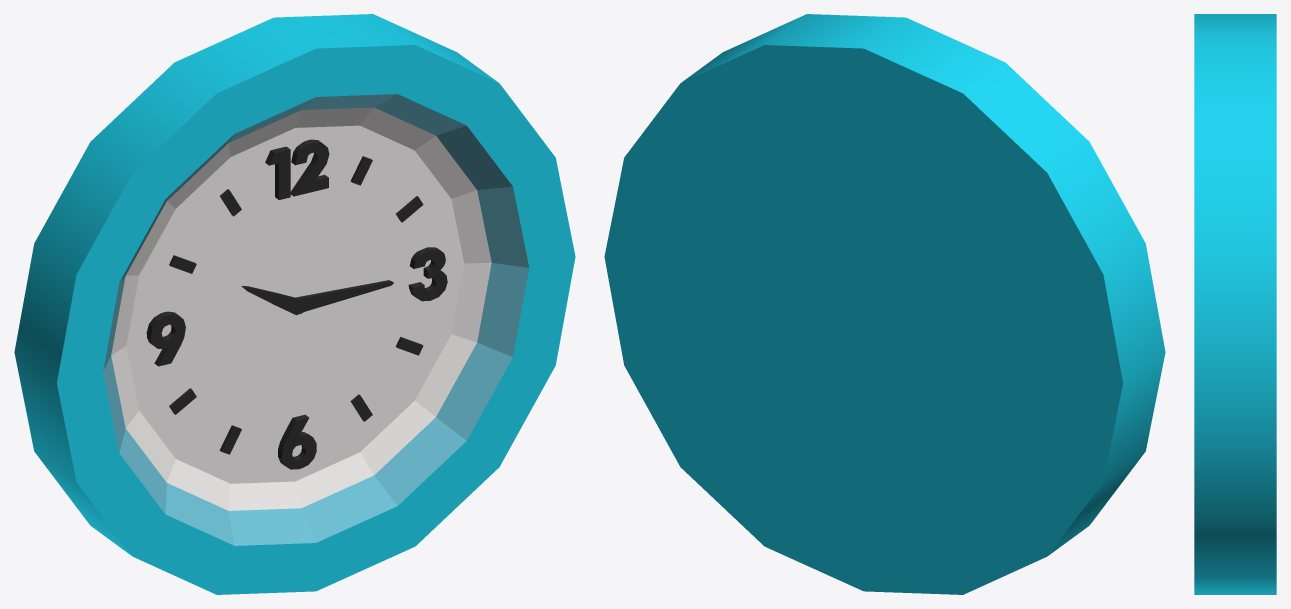
Rendered from clock-1.glb.
3 views of the same model, side by side, from view 1: azimuth 30°, elevation 25°; view 2: azimuth 150°, elevation 25°; view 3: azimuth 270°, elevation 25° (orthographic). The views are drawn at different scales.
Parts seen in each view (by area): view 1: pCube169; view 2: pCube169; view 3: pCube169.
Part boxes in pixels (x1,y1,x2,y2): pCube169: [14, 14, 575, 594]; pCube169: [604, 14, 1165, 594]; pCube169: [1194, 14, 1276, 594].
Bounding box in the file's own units: 0.4758 × 0.4758 × 0.0673.
Materials: 1 (1 with a texture image).
